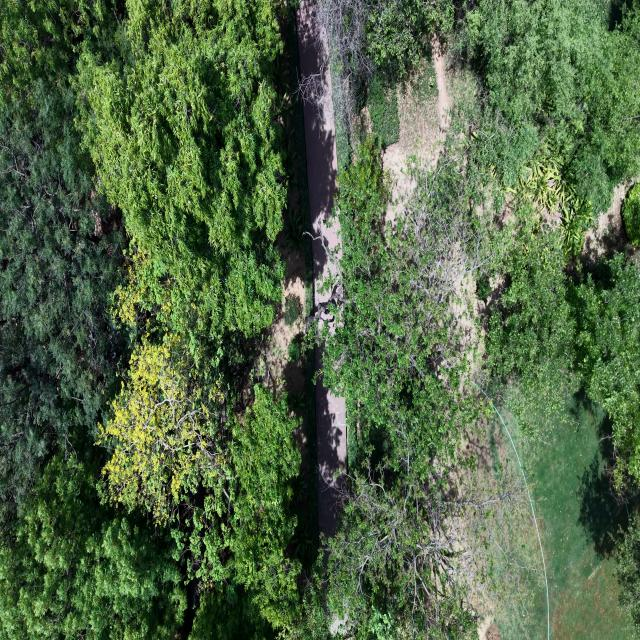DRY_AREA: (513, 390, 630, 639), (382, 34, 463, 222), (382, 35, 450, 219), (303, 90, 338, 310), (260, 230, 304, 395), (581, 184, 627, 266), (479, 621, 501, 639)
VEGETATION_TREE: (0, 0, 639, 639), (315, 0, 639, 637), (0, 1, 323, 637), (323, 145, 527, 639), (458, 1, 639, 456), (75, 1, 285, 391), (78, 1, 285, 334), (0, 2, 123, 524), (323, 146, 478, 478), (461, 1, 639, 213), (327, 453, 528, 639), (0, 448, 187, 639), (184, 384, 310, 636), (513, 389, 639, 639), (327, 468, 476, 639), (98, 333, 224, 520), (313, 0, 454, 143), (483, 230, 578, 437), (229, 385, 300, 626), (575, 253, 639, 487), (507, 150, 592, 260), (365, 0, 453, 74), (615, 519, 639, 637), (367, 71, 398, 145), (621, 182, 639, 245), (284, 294, 300, 327), (475, 274, 490, 301), (287, 334, 301, 361)
